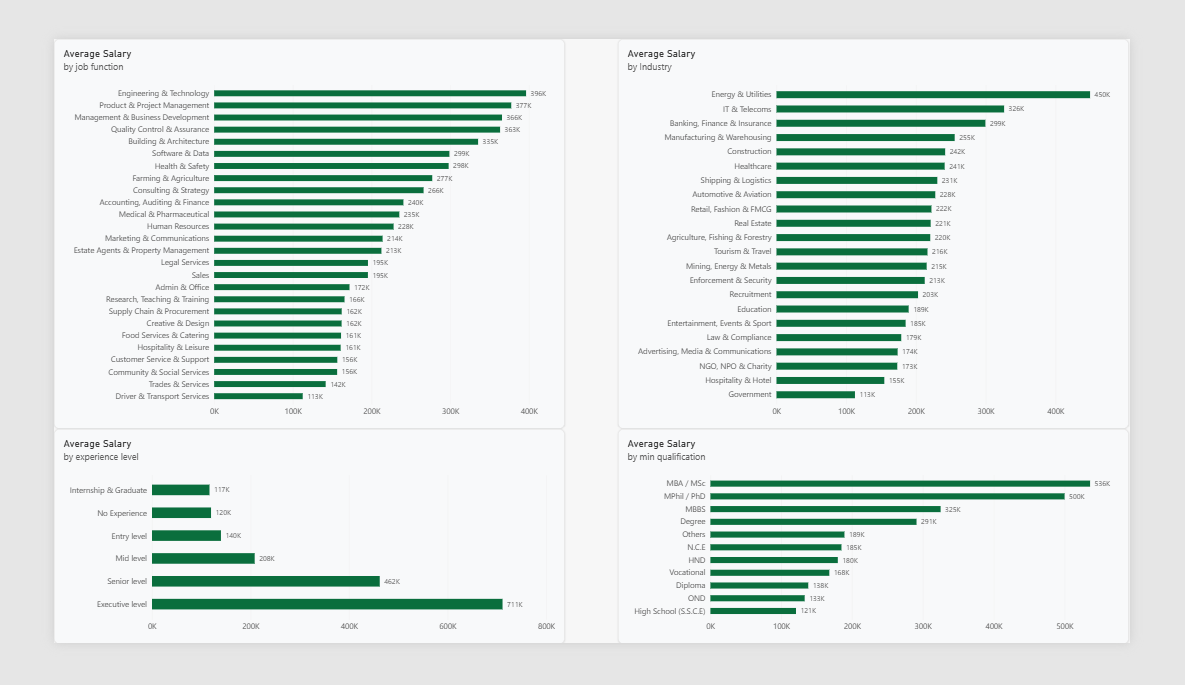

What the dashboard file says about the page in this screenshot:
{"tool":"powerbi","page":{"name":"Pay","canvas":[1920,1080],"ordinal":2},"visuals":[{"type":"barChart","fields":{"Category":["public job_postings.job_function"],"Y":["Avg(public job_postings.avg_salary)"]},"box":[0,0,912,696],"z":0},{"type":"barChart","fields":{"Category":["public job_postings.Industry"],"Y":["Avg(public job_postings.avg_salary)"]},"box":[1008,0,912,696],"z":1000},{"type":"barChart","fields":{"Category":["public job_postings.experience_level"],"Y":["Avg(public job_postings.avg_salary)"]},"box":[0,696,912,384],"z":2000},{"type":"barChart","fields":{"Category":["public job_postings.min_qualification"],"Y":["Avg(public job_postings.avg_salary)"]},"box":[1008,696,912,384],"z":3000}]}

Visuals, with their boxes in screenshot pixels (x1, y1, x2, y2), scaled from the page's 1920x1080 canvas onto the 1185x685 screenshot:
barChart - public job_postings.job_function x Avg(public job_postings.avg_salary): left=0, top=0, right=563, bottom=441
barChart - public job_postings.Industry x Avg(public job_postings.avg_salary): left=622, top=0, right=1184, bottom=441
barChart - public job_postings.experience_level x Avg(public job_postings.avg_salary): left=0, top=441, right=563, bottom=684
barChart - public job_postings.min_qualification x Avg(public job_postings.avg_salary): left=622, top=441, right=1184, bottom=684
